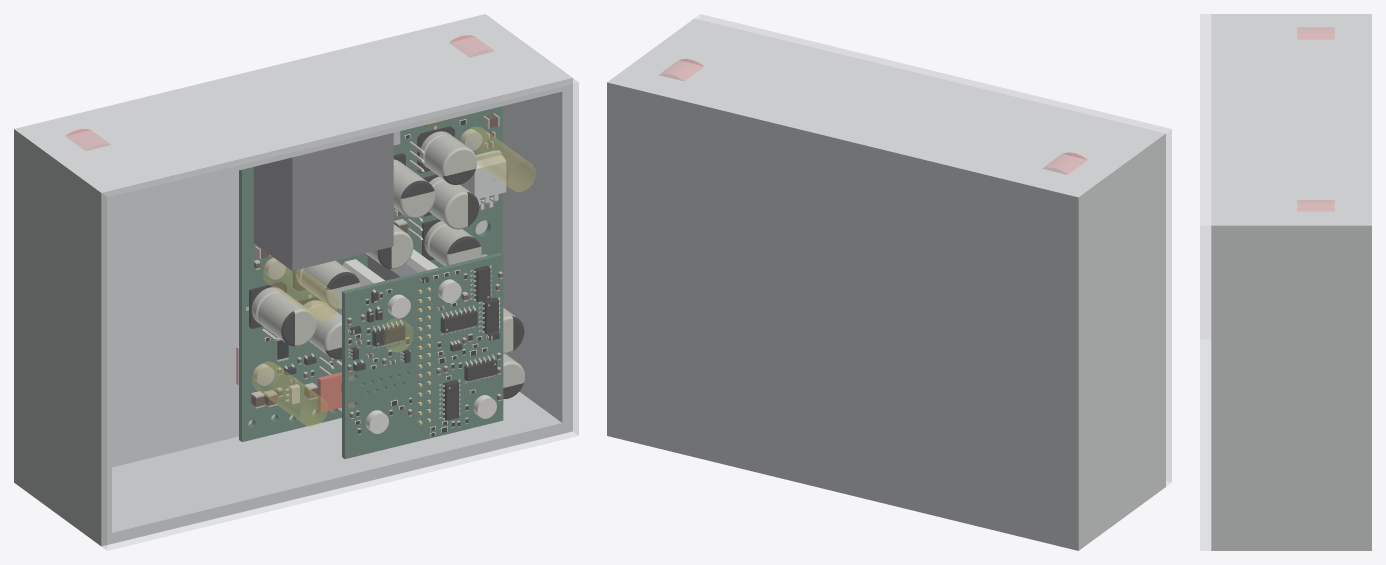
Rendered from BOOST_assembly_2026-10-02.glb.
The picture shows the model from 3 angles, left to right: view 1: azimuth 30°, elevation 25°; view 2: azimuth 150°, elevation 25°; view 3: azimuth 270°, elevation 25°; orthographic projection. The views are drawn at different scales.
Parts seen in each view (by area): view 1: lid (underside at 33.0), case floor (10 mm), case wall north, case wall west, case wall south, case wall east, =>[0:1:1:15], L1 CSCF3218-6R8MC body 22.5 x 32.0 x 19.0, =>[0:1:1:22], C71, M10 screwdriver access (4.0 mm radius, head to lid), C69 (+16 smaller); view 2: case floor (10 mm), case wall north, case wall west, lid (underside at 33.0), case wall east; view 3: case wall east, case wall north, case floor (10 mm), lid (underside at 33.0), case wall west, penetrator keep-out box (9.5, 3.5), 15 x 10, penetrator keep-out box (118.5, 3.5), 15 x 10.
Boxes of the visible parts, box(x1,y1,x2,y2) form: lid (underside at 33.0): box(101, 78, 578, 550); case floor (10 mm): box(14, 14, 505, 496); case wall north: box(45, 31, 562, 201); case wall west: box(34, 141, 111, 546); case wall south: box(112, 392, 562, 543); case wall east: box(495, 29, 572, 433); =>[0:1:1:15]: box(342, 253, 503, 458); L1 CSCF3218-6R8MC body 22.5 x 32.0 x 19.0: box(253, 133, 393, 270); =>[0:1:1:22]: box(239, 106, 502, 441); C71: box(245, 282, 316, 346); M10 screwdriver access (4.0 mm radius, head to lid): box(252, 361, 327, 426); C69: box(417, 126, 476, 184); case floor (10 mm): box(607, 67, 1098, 550); case wall north: box(638, 21, 1154, 179); case wall west: box(1089, 131, 1165, 535); lid (underside at 33.0): box(695, 14, 1171, 486); case wall east: box(627, 18, 704, 69); case wall east: box(1211, 221, 1334, 550); case wall north: box(1211, 18, 1334, 220); case floor (10 mm): box(1334, 14, 1371, 550); lid (underside at 33.0): box(1200, 14, 1210, 550); case wall west: box(1211, 14, 1334, 18); penetrator keep-out box (9.5, 3.5), 15 x 10: box(1297, 28, 1334, 39); penetrator keep-out box (118.5, 3.5), 15 x 10: box(1297, 200, 1334, 211).
Bounding box in the file's own units: 0.134 × 0.097 × 0.046.
